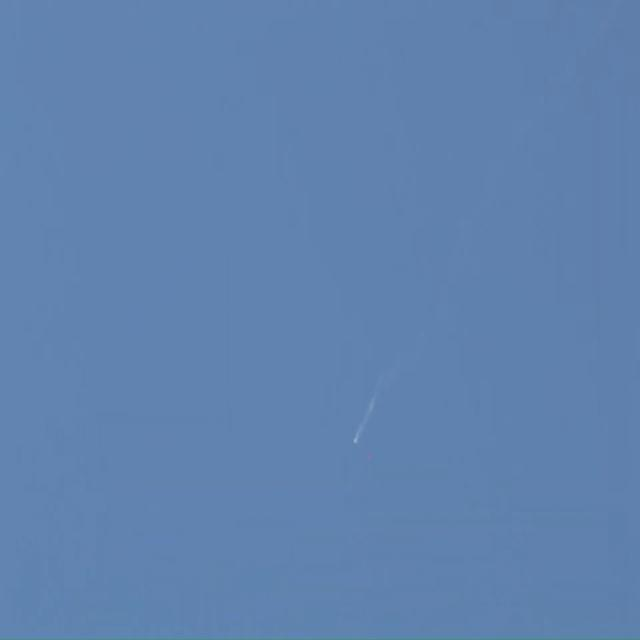Rocket: (353, 439, 357, 448)
